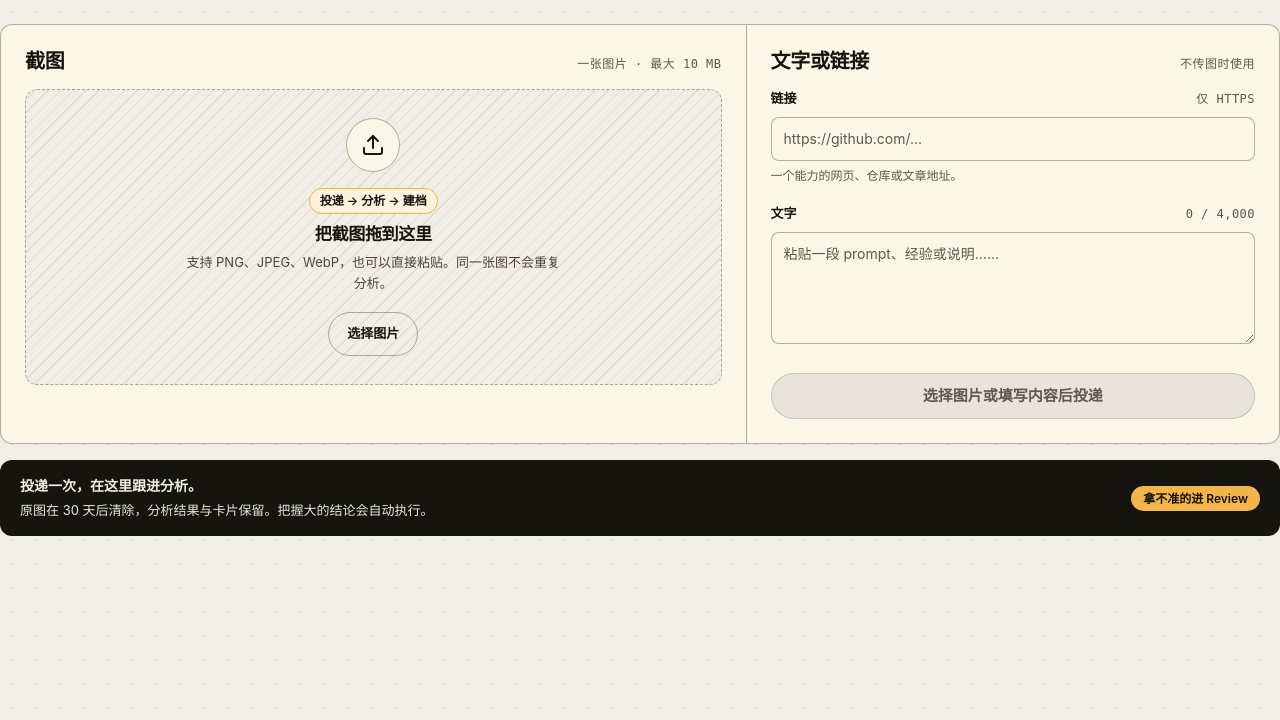
Test: CaptureForm › shows the duplicate notice without a link when the duplicate has no capability card
The width and height of the screenshot is (1280, 720).
Type "some text" into the text box labelled "文字 0 / 4,000" at (1013, 288), box left=770, top=232, right=1255, bottom=344
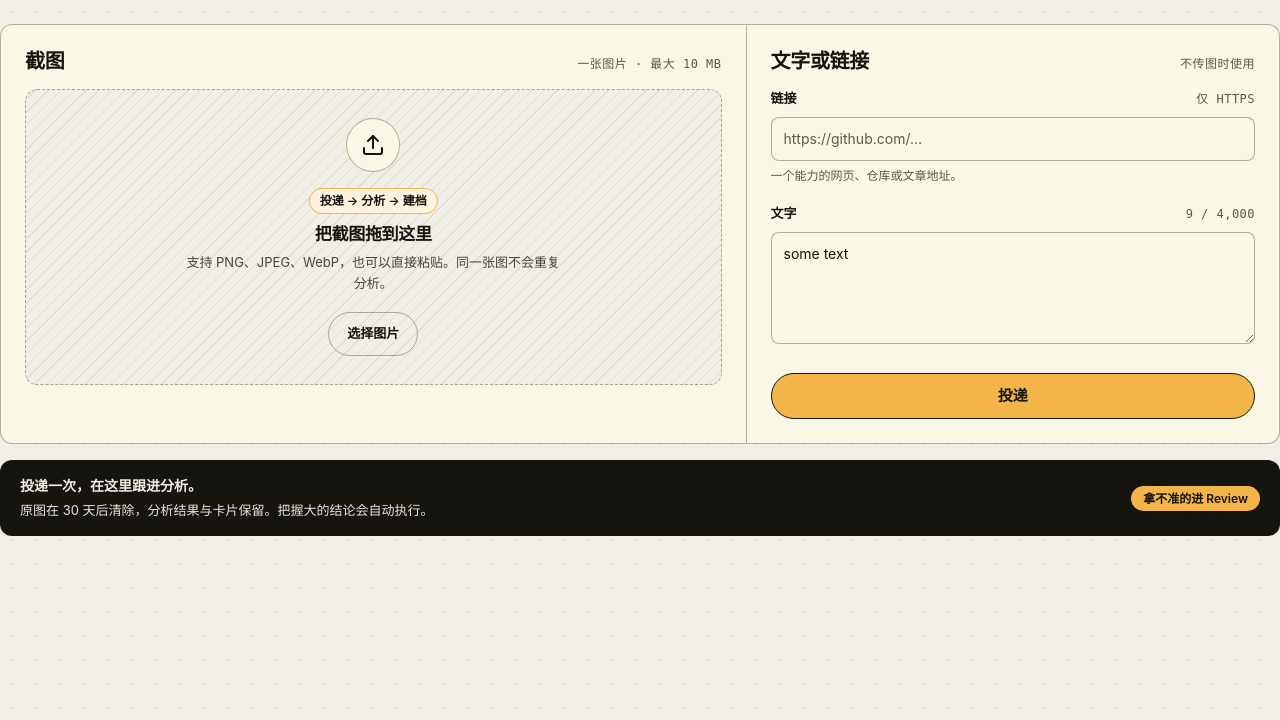
Click the button "投递" at (1013, 396), box left=770, top=373, right=1255, bottom=419
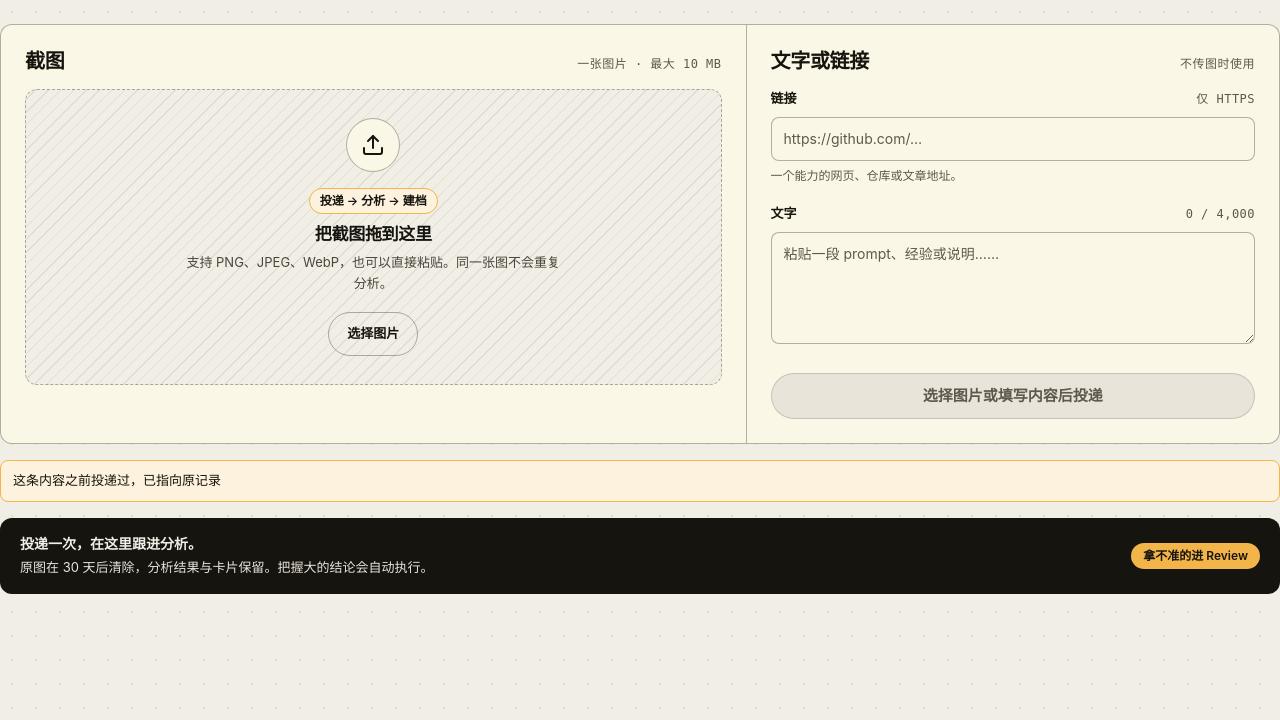
Expected: the text "这条内容之前投递过，已指向原记录" is shown, left=0, top=460, right=1279, bottom=502
